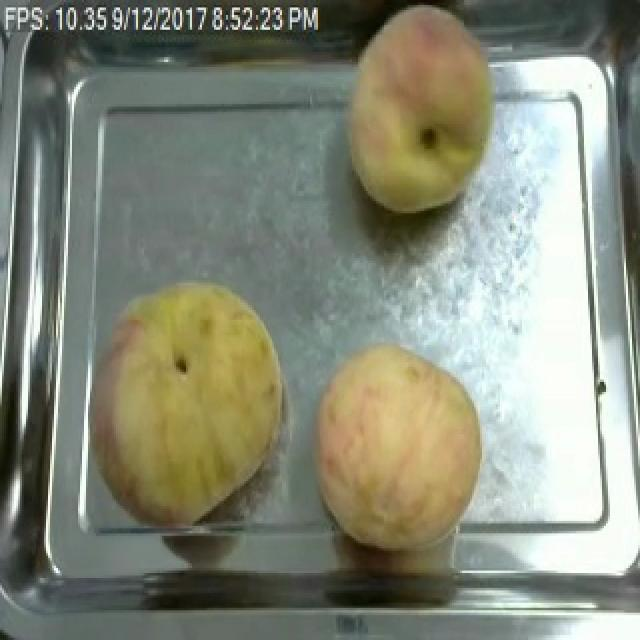Fruit: (76, 271, 298, 534), (302, 333, 492, 558), (334, 0, 506, 223)
